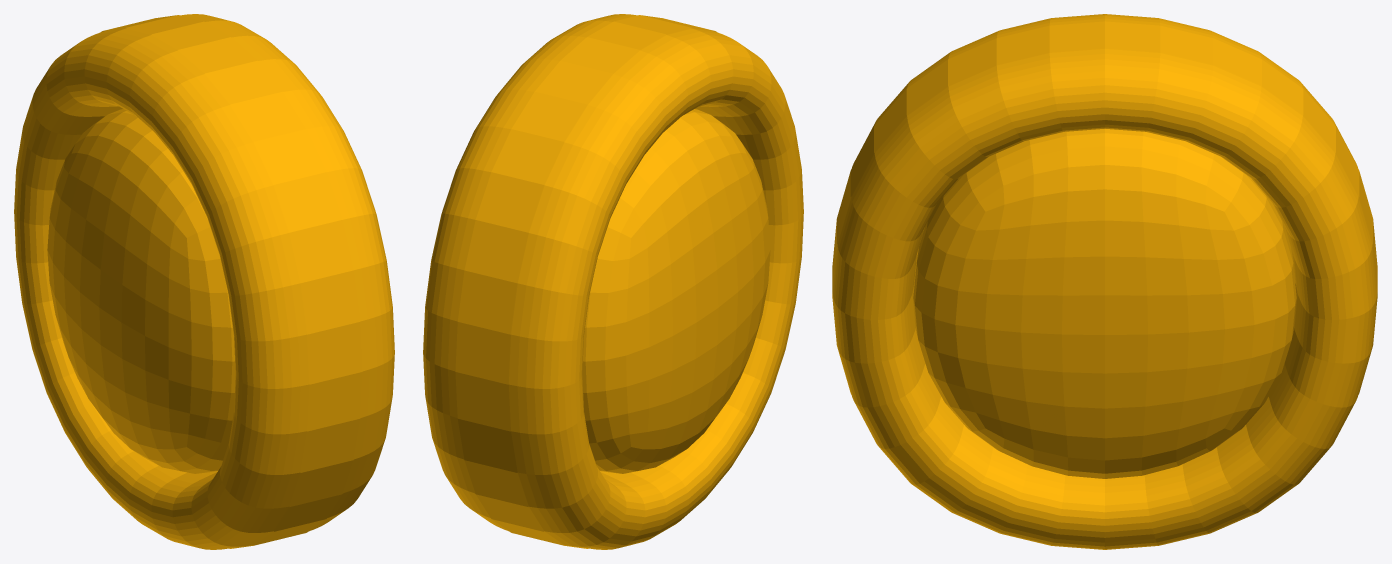
The model's file is coinSpin01.glb.
3 views of the same model, side by side, from view 1: azimuth 30°, elevation 25°; view 2: azimuth 150°, elevation 25°; view 3: azimuth 270°, elevation 25° (orthographic). The views are drawn at different scales.
Visible parts, largest first — view 1: Cube; view 2: Cube; view 3: Cube.
Part boxes in pixels (left/top/right/bottom): Cube: left=14, top=14, right=394, bottom=549; Cube: left=423, top=14, right=803, bottom=549; Cube: left=832, top=14, right=1377, bottom=549.
Size of the model in its own units: 0.8453 by 1.83 by 1.83.
